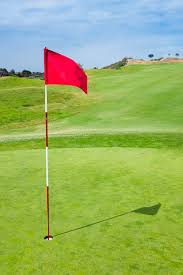Flag: (44, 47, 88, 95)
